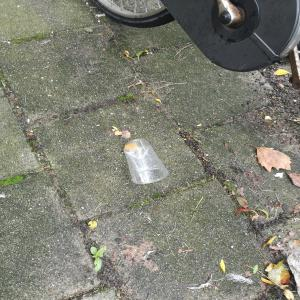Cup: (121, 137, 175, 188)
